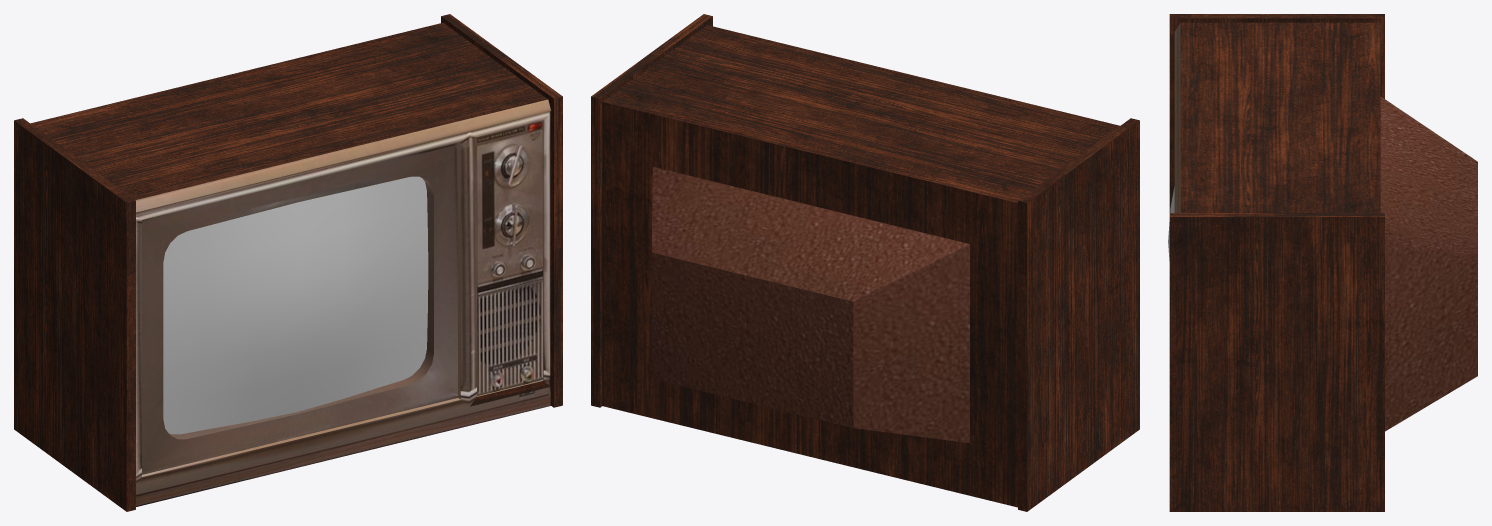
Rendered from Old_TV.fbx.
3 views of the same model, side by side, from view 1: azimuth 30°, elevation 25°; view 2: azimuth 150°, elevation 25°; view 3: azimuth 270°, elevation 25° (orthographic). The views are drawn at different scales.
Visible parts, largest first — view 1: Plane; view 2: Plane; view 3: Plane.
Part boxes in pixels (<box>): Plane: <box>14,14,562,511</box>; Plane: <box>591,14,1139,511</box>; Plane: <box>1168,14,1477,511</box>.
Bounding box in the file's own units: 108 × 73.13 × 69.65.
